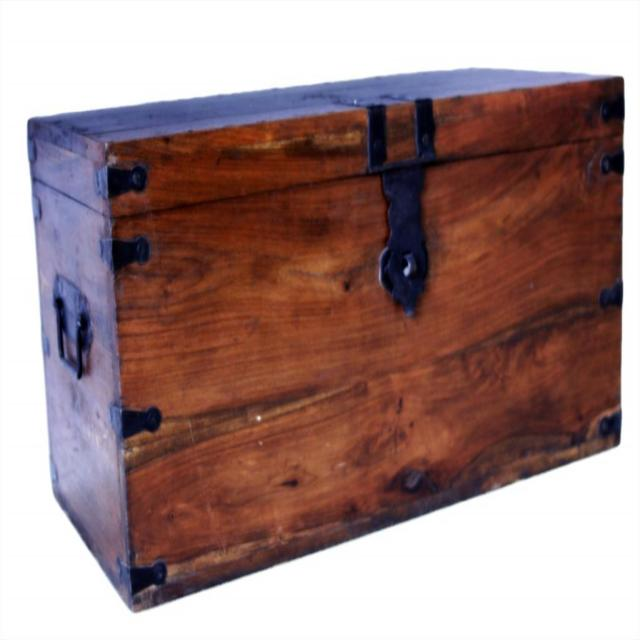Box: (26, 67, 624, 614)
